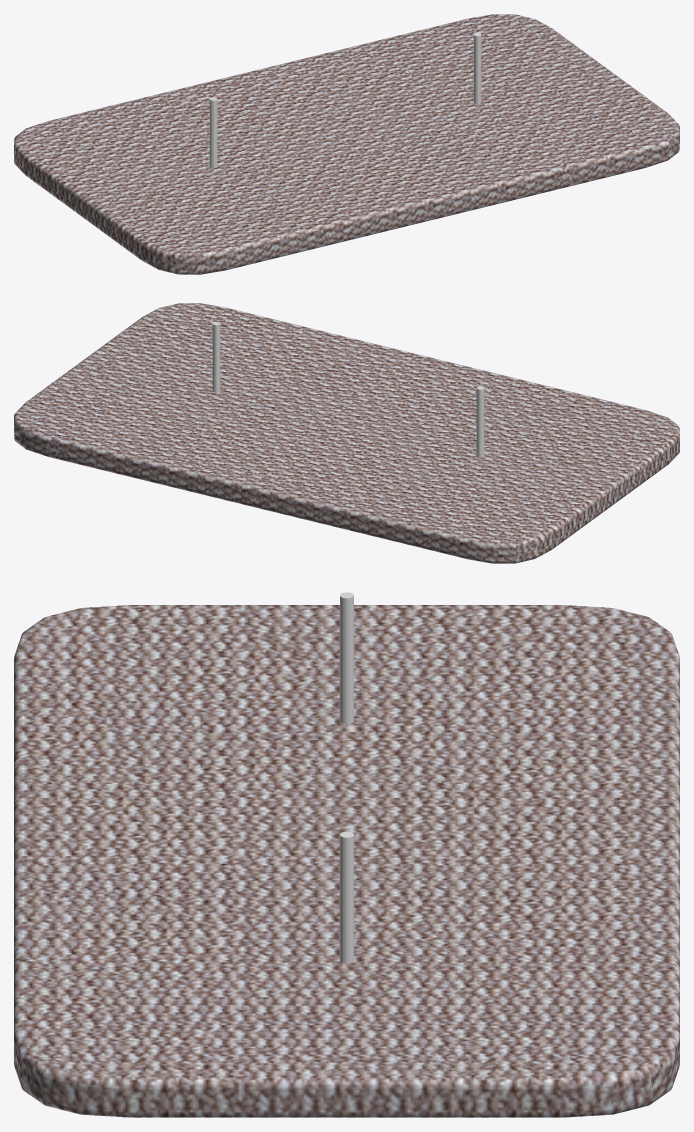
3 views of the same model, one above another, from view 1: azimuth 30°, elevation 25°; view 2: azimuth 150°, elevation 25°; view 3: azimuth 270°, elevation 25° (orthographic). The views are drawn at different scales.
Visible parts, largest first — view 1: Detail1, con1out, con2out; view 2: Detail1, con1out, con2out; view 3: Detail1, con1out, con2out.
Boxes of the visible parts, <box> form: Detail1: <box>14,14,679,274</box>; con1out: <box>473,33,481,103</box>; con2out: <box>209,97,217,168</box>; Detail1: <box>14,303,679,563</box>; con1out: <box>212,322,220,392</box>; con2out: <box>476,386,484,457</box>; Detail1: <box>14,605,679,1117</box>; con1out: <box>340,831,353,963</box>; con2out: <box>340,592,353,723</box>.
Bounding box in the file's own units: 0.8 × 0.1279 × 0.47.
Materials: 1 (1 with a texture image).
